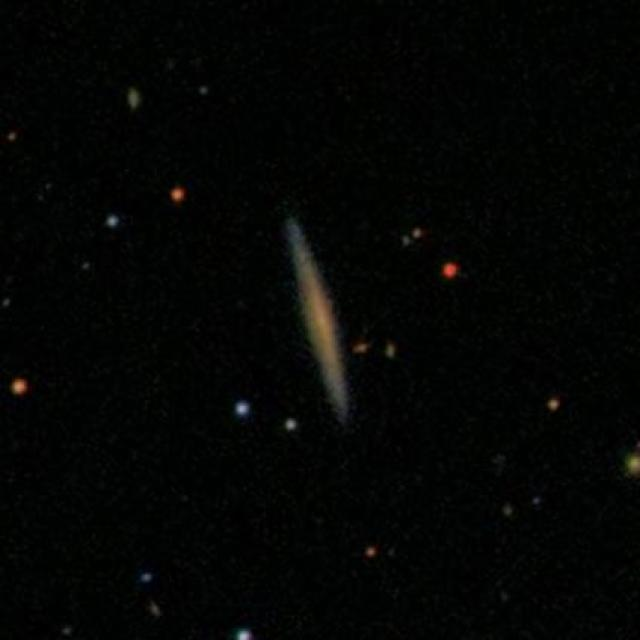galaxy: (281, 206, 351, 424), (121, 84, 145, 119), (9, 373, 32, 401), (232, 398, 257, 422), (441, 258, 461, 283), (544, 393, 564, 415), (146, 598, 165, 621), (1, 293, 21, 314), (623, 456, 640, 480), (284, 415, 301, 435), (171, 183, 188, 203), (396, 228, 412, 249), (501, 502, 516, 524), (137, 570, 155, 588), (105, 211, 122, 230), (58, 622, 76, 639), (79, 257, 95, 276), (232, 627, 255, 640), (382, 343, 399, 360), (355, 339, 371, 357), (7, 130, 23, 145), (530, 491, 544, 508), (196, 83, 212, 97), (366, 545, 380, 560), (414, 228, 426, 242)
